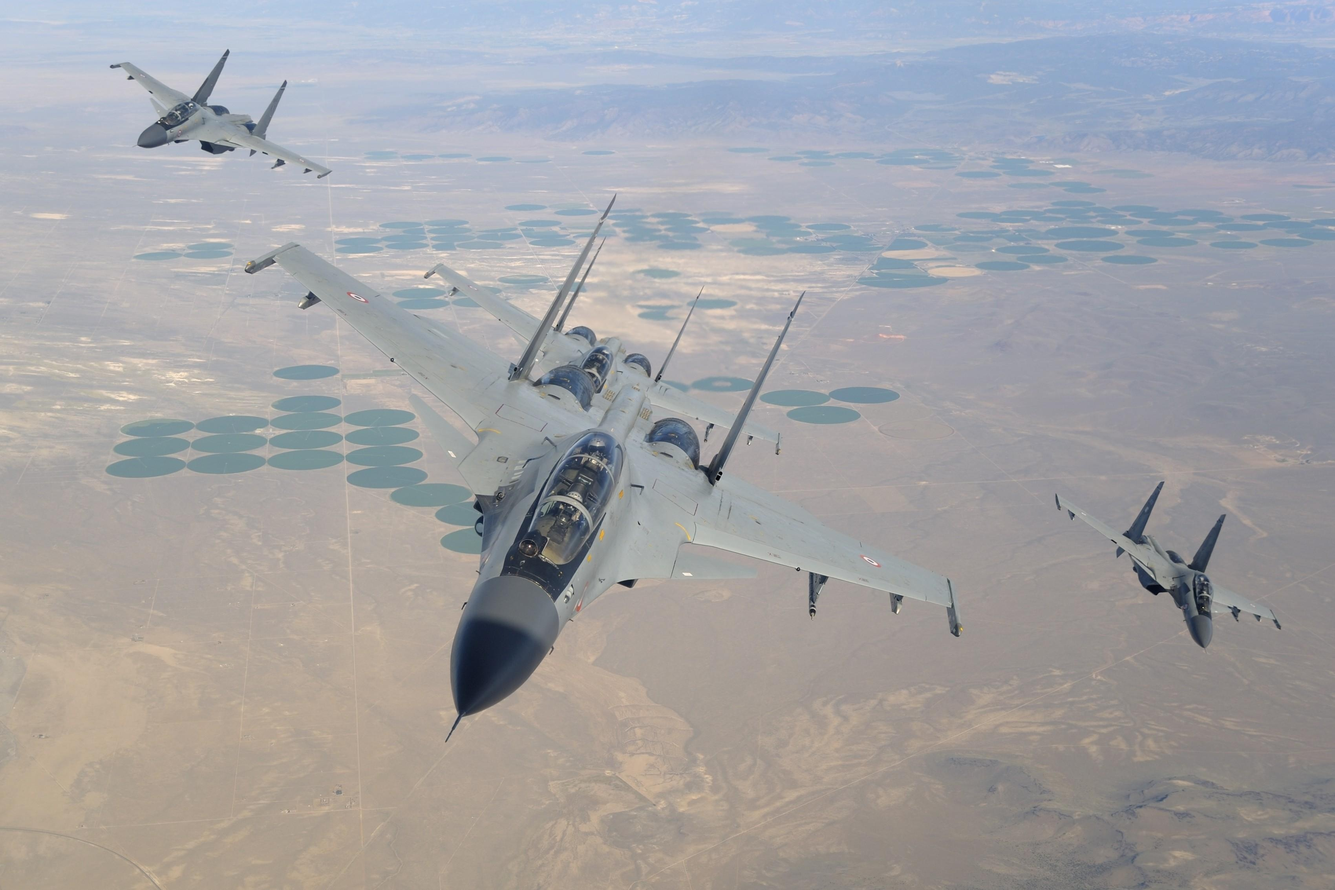aircraft: (242, 199, 969, 721), (1051, 477, 1285, 648), (107, 48, 331, 176)
